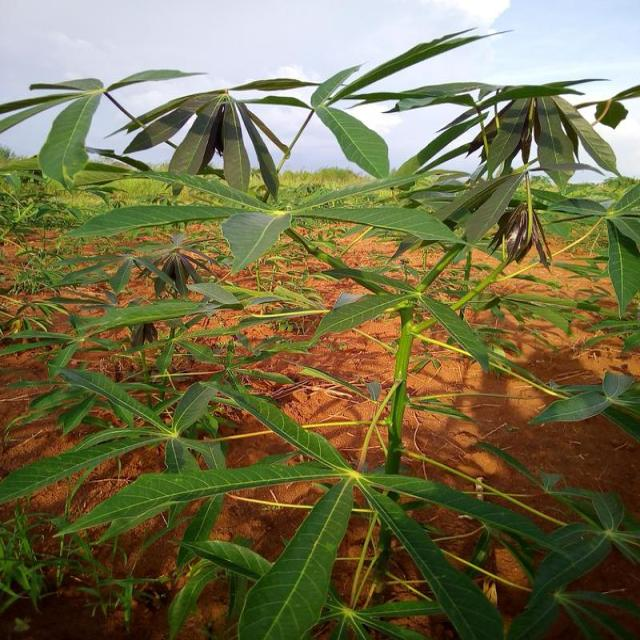cassava leaf: (2, 24, 638, 638), (238, 475, 356, 638), (222, 209, 292, 275)
